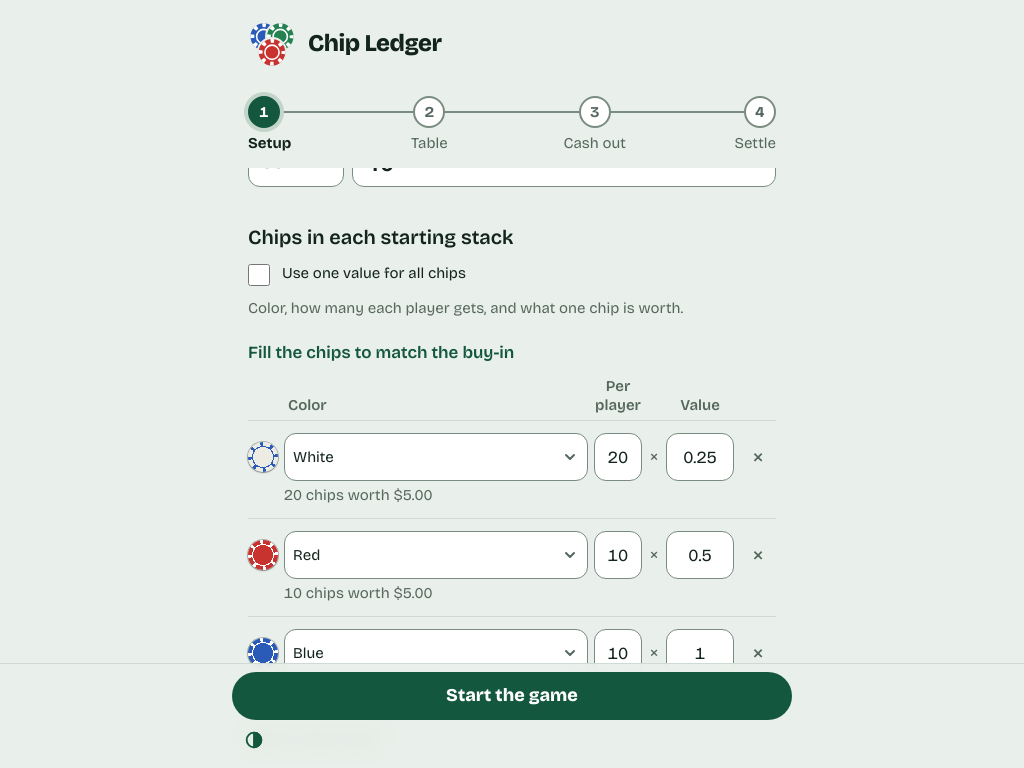
ChipLedgerApp › AC-0001-15: Fill the chips rebalances a hand-edited stack for the buy-in
(page scrolled)
Click the button "Fill the chips to match the buy-in": (381, 353) x1=248 y1=329 x2=514 y2=377
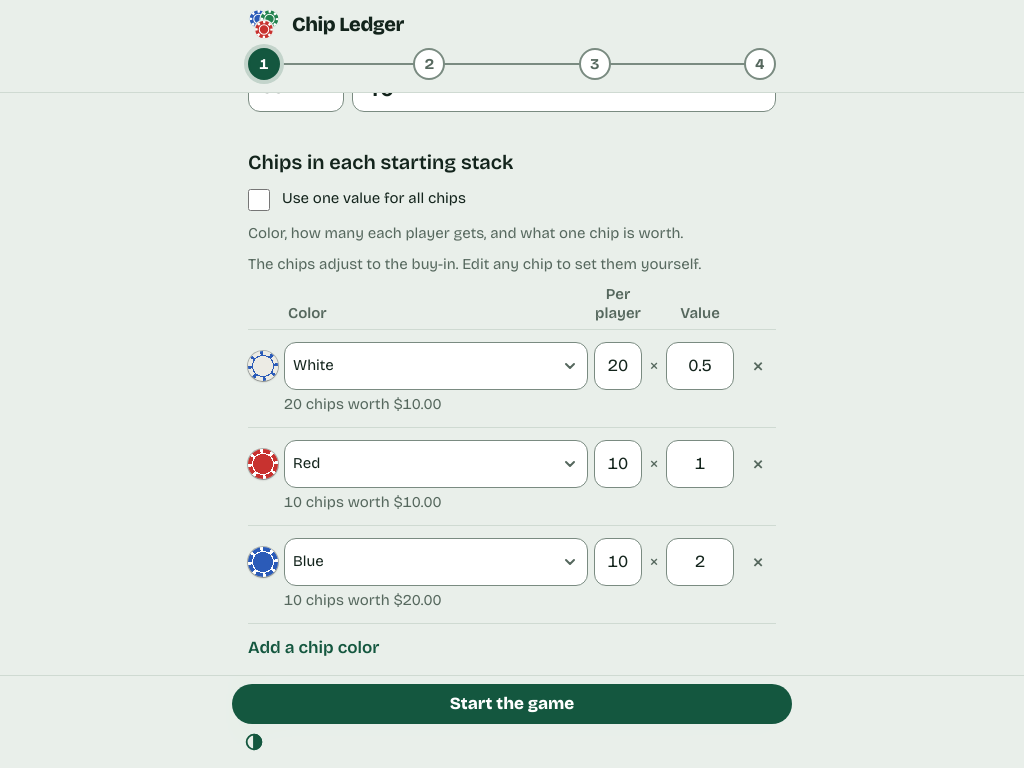
Expected: the 2nd field named "White chip value" holds "0.5", x1=666 y1=342 x2=734 y2=390
Expected: the text "The chips adjust to the buy-in" is shown, x1=248 y1=255 x2=701 y2=273
